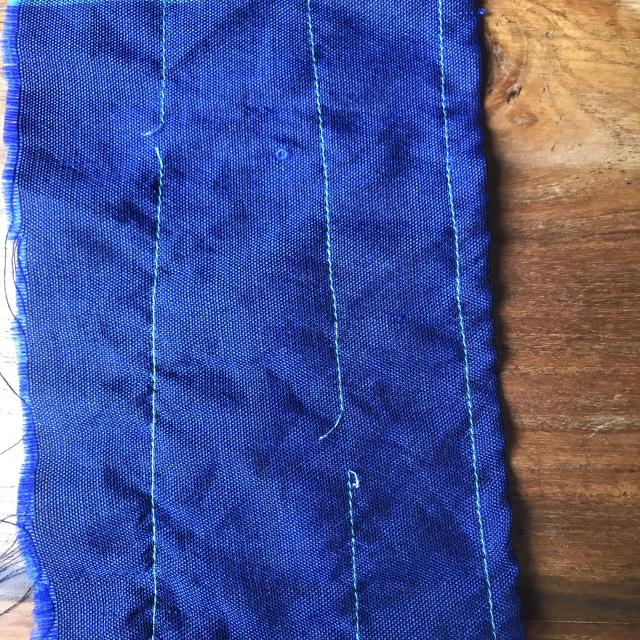broken: (300, 393, 390, 521), (123, 106, 197, 179)
good: (304, 108, 352, 238)
